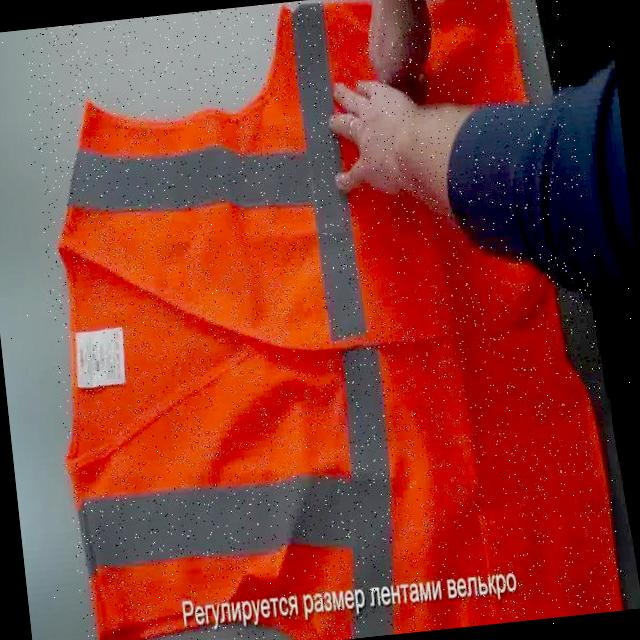vest: (20, 0, 627, 640)
